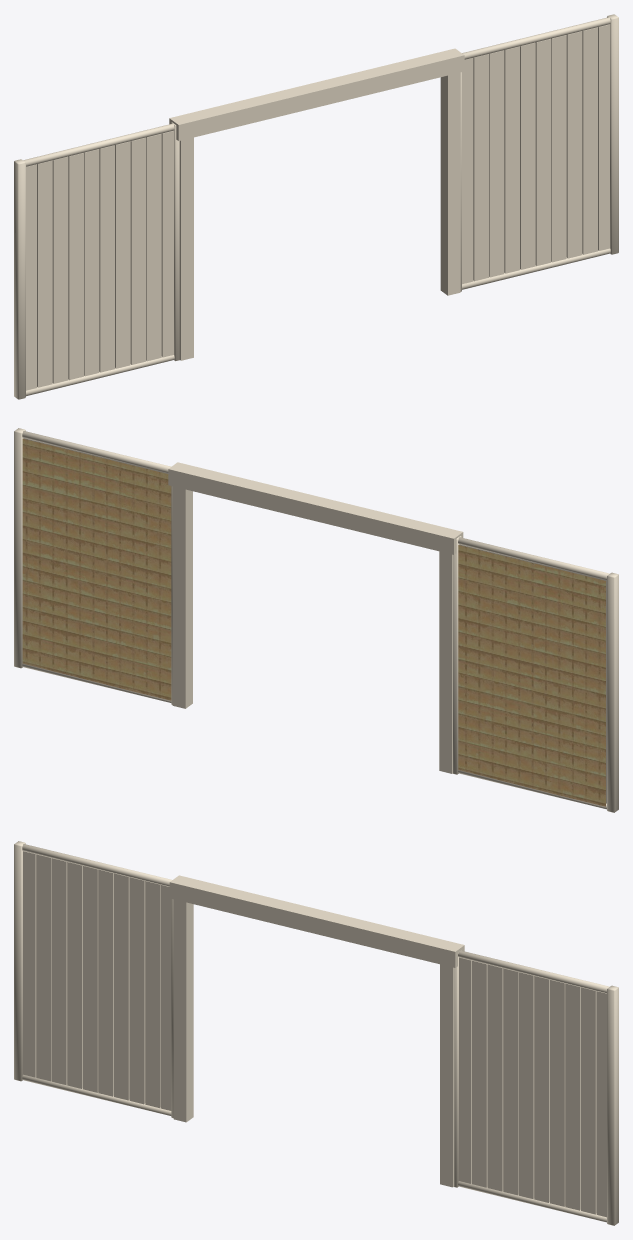
Rendered from SM_entrance_module.glb.
3 views of the same model, one above another, from view 1: azimuth 30°, elevation 25°; view 2: azimuth 150°, elevation 25°; view 3: azimuth 330°, elevation 25° (orthographic).
Parts seen in each view (by area): view 1: SM_entrance_module; view 2: SM_entrance_module; view 3: SM_entrance_module.
Boxes of the visible parts, x1,y1,x2,y2 form: SM_entrance_module: [14, 14, 618, 399]; SM_entrance_module: [14, 428, 618, 812]; SM_entrance_module: [14, 841, 618, 1225].
Bounding box in the file's own units: 7.4 × 2.8 × 0.2.
Materials: 2 (1 with a texture image).
